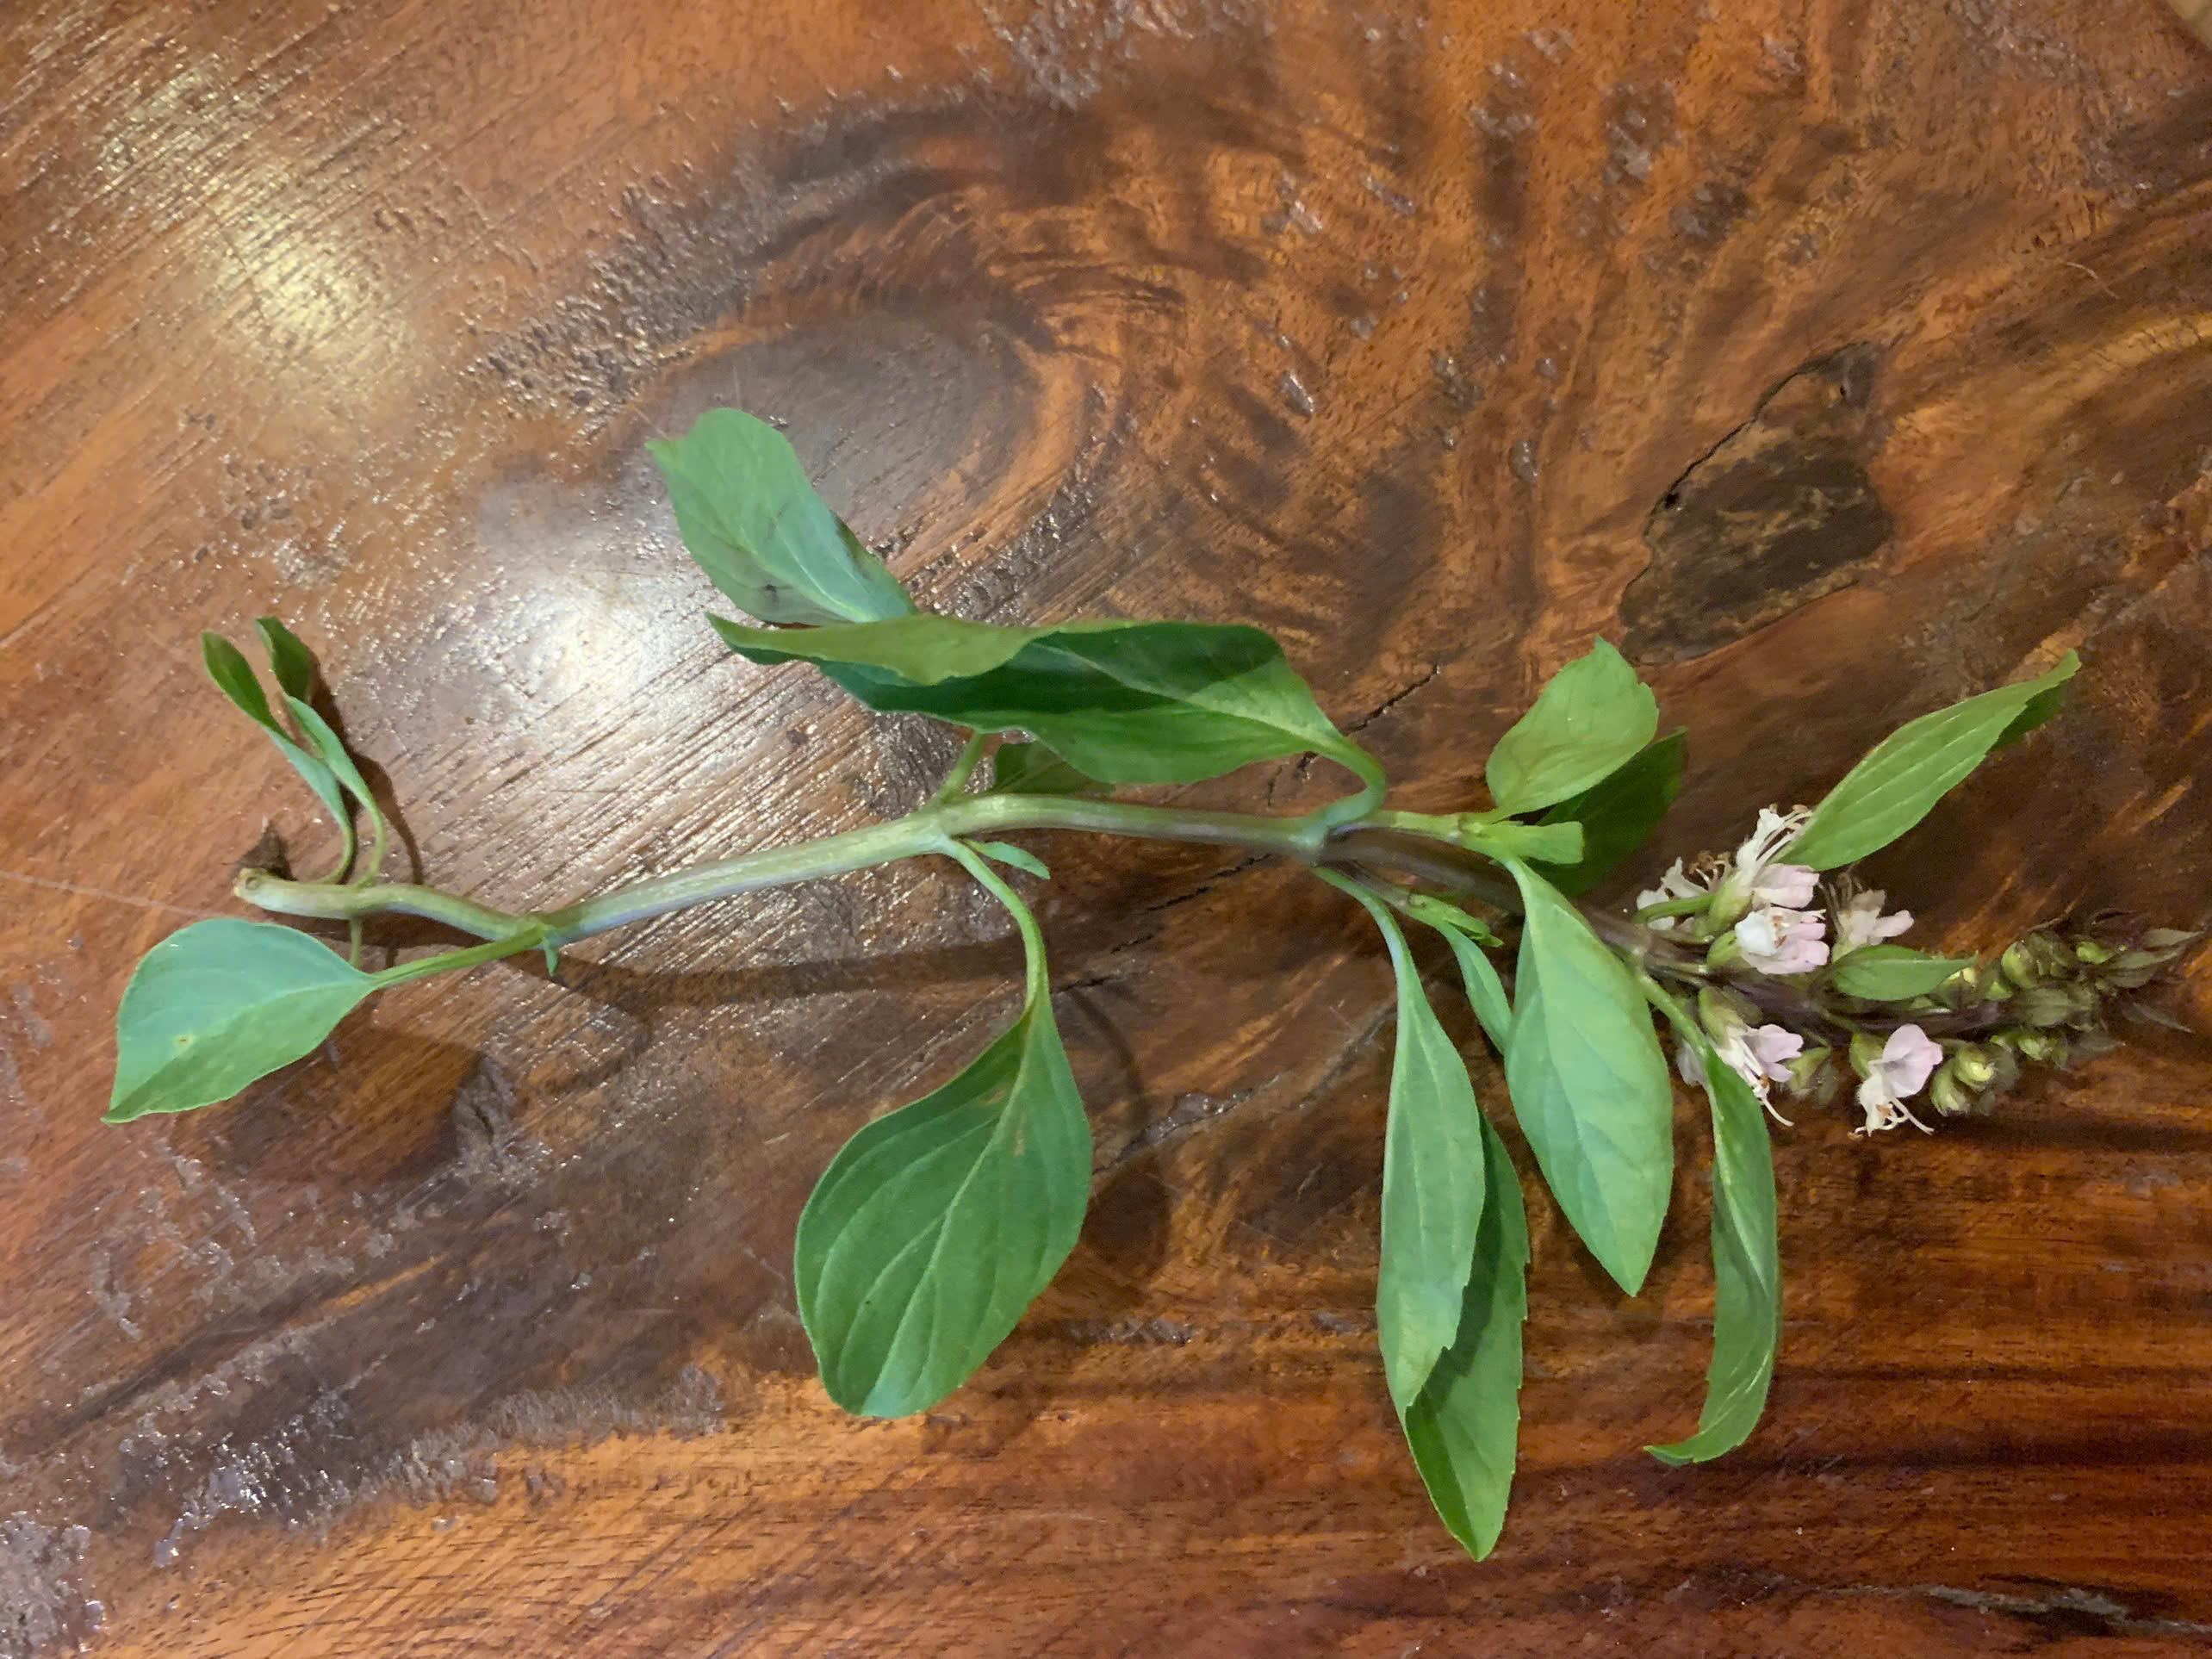Huu co: (127, 415, 2132, 1425)
